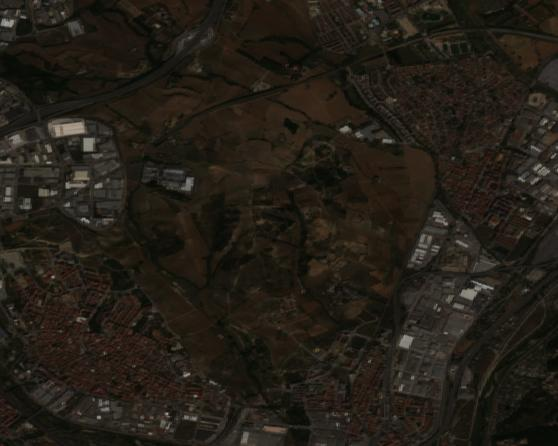Agricola: (154, 67, 403, 396)
Industria: (378, 206, 516, 405), (1, 365, 302, 446), (1, 88, 142, 231), (522, 108, 558, 221), (1, 1, 89, 42)
Poblacion: (3, 240, 229, 411), (356, 55, 547, 211), (289, 360, 461, 446)
